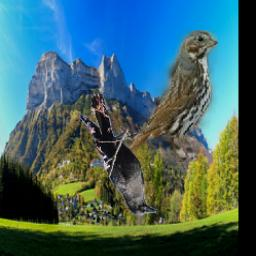Crow: (80, 95, 157, 216)
Sparrow: (113, 31, 218, 163)
